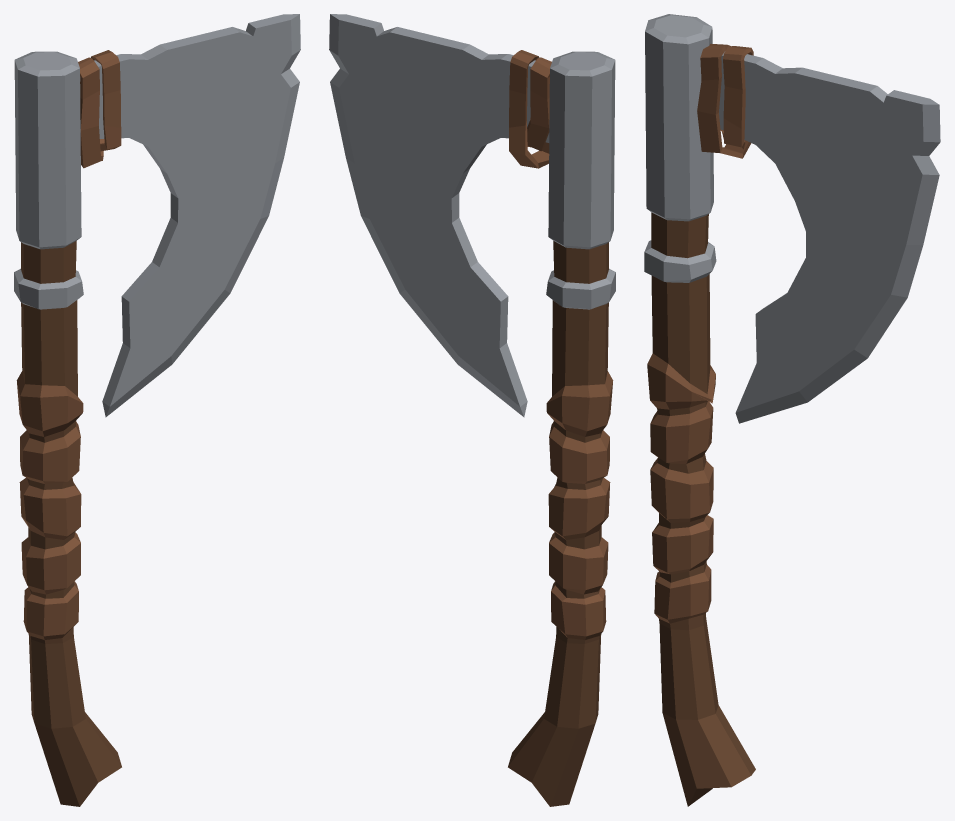
Rendered from Axe_Small.glb.
3 renders of one model, left to right at view 1: azimuth 30°, elevation 25°; view 2: azimuth 150°, elevation 25°; view 3: azimuth 330°, elevation 25°, orthographic. The views are drawn at different scales.
Parts seen in each view (by area): view 1: Steel, LightWood, DarkWood, LightSteel; view 2: Steel, LightWood, DarkWood, LightSteel; view 3: Steel, DarkWood, LightWood, LightSteel.
Boxes of the visible parts, bbox=[...] form: Steel: bbox=[14, 14, 299, 406]; LightWood: bbox=[16, 50, 121, 639]; DarkWood: bbox=[21, 241, 121, 806]; LightSteel: bbox=[102, 14, 300, 417]; Steel: bbox=[330, 14, 615, 406]; LightWood: bbox=[509, 50, 613, 639]; DarkWood: bbox=[508, 241, 608, 806]; LightSteel: bbox=[329, 14, 527, 417]; Steel: bbox=[644, 14, 939, 412]; DarkWood: bbox=[651, 212, 755, 806]; LightWood: bbox=[647, 43, 753, 623]; LightSteel: bbox=[735, 104, 940, 423].
Bounding box in the file's own units: 1.17 × 2.96 × 0.2483.
